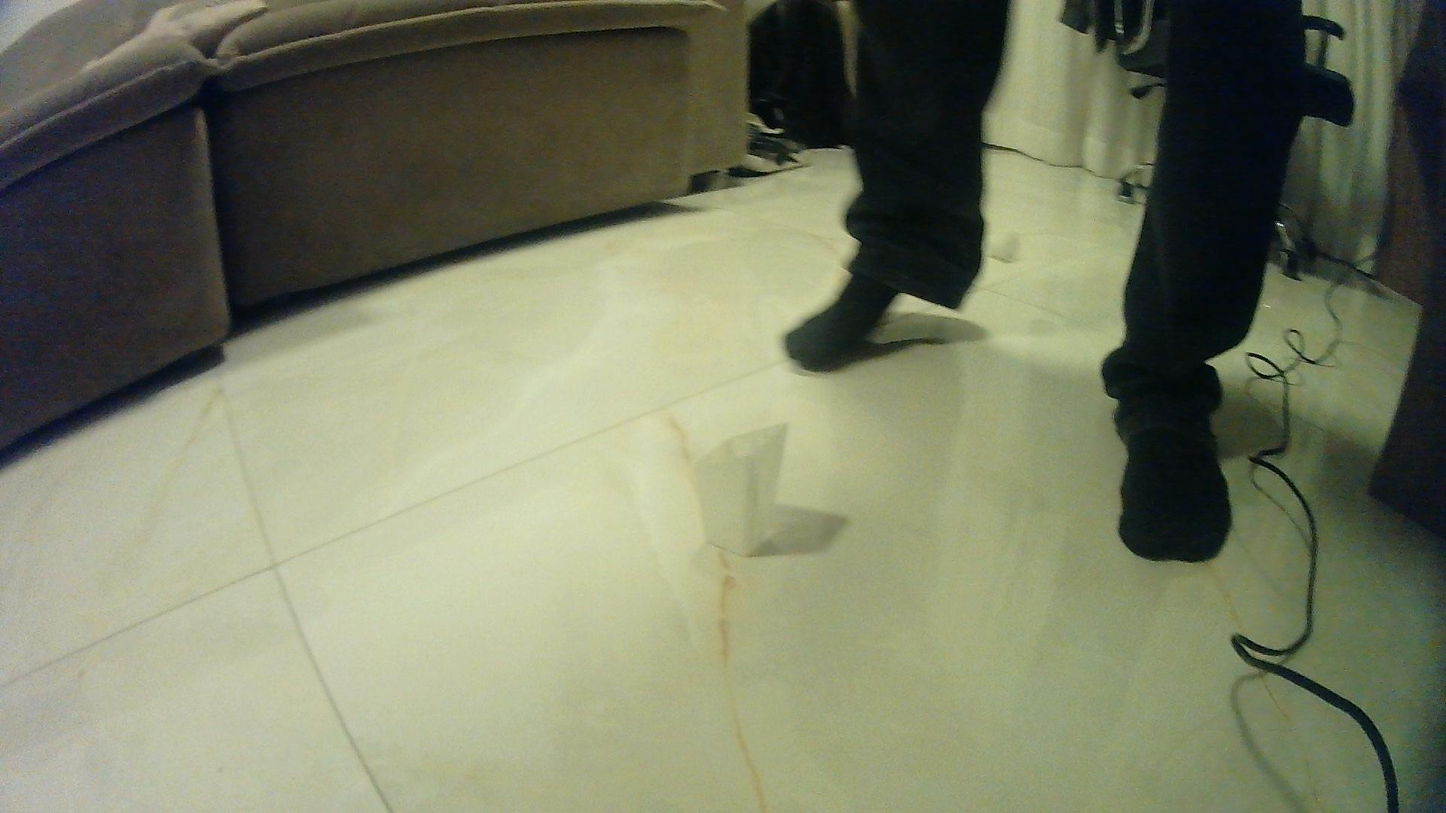erva_daninha: (684, 417, 797, 559)
